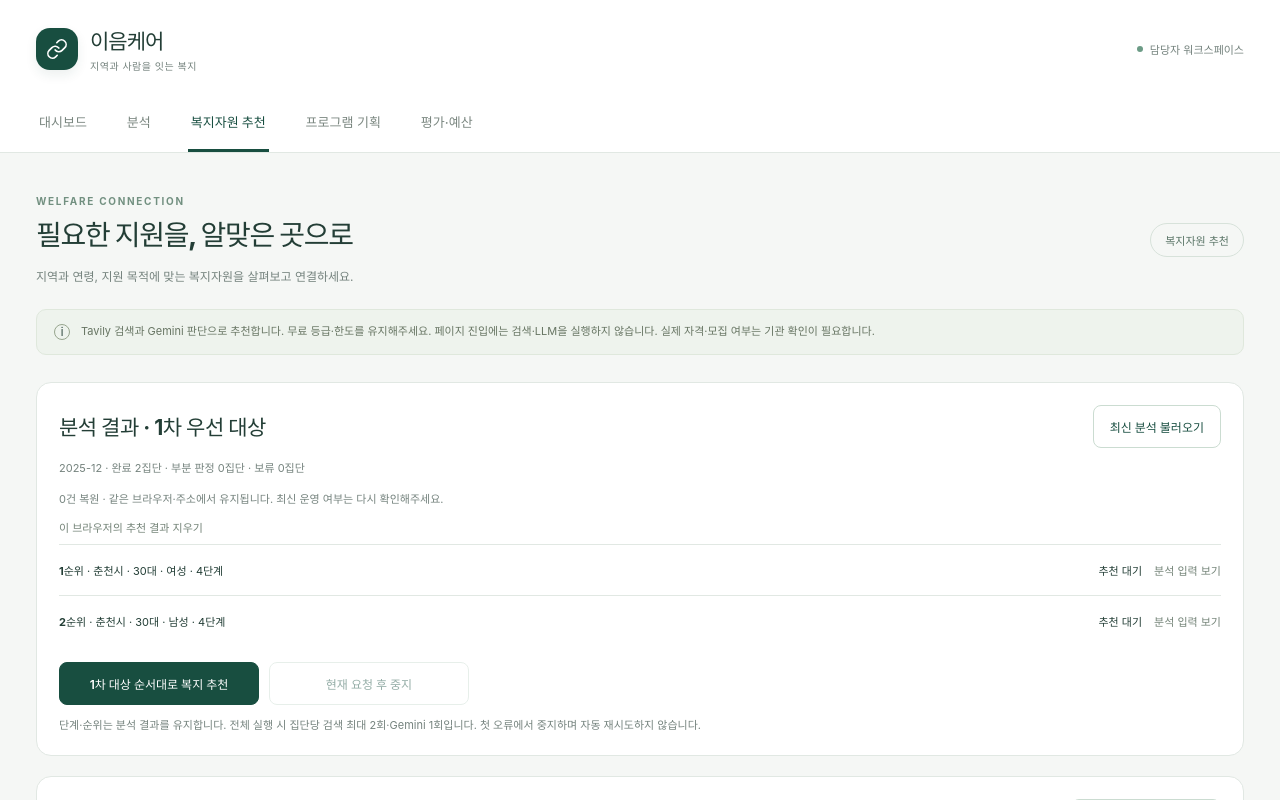
Test: 일괄 추천은 첫 실패에서 멈추고 재실행 시 완료 0개도 건너뛴다
The width and height of the screenshot is (1280, 800).
Click the button "1차 대상 순서대로 복지 추천" at (159, 683), box [59, 662, 259, 705]
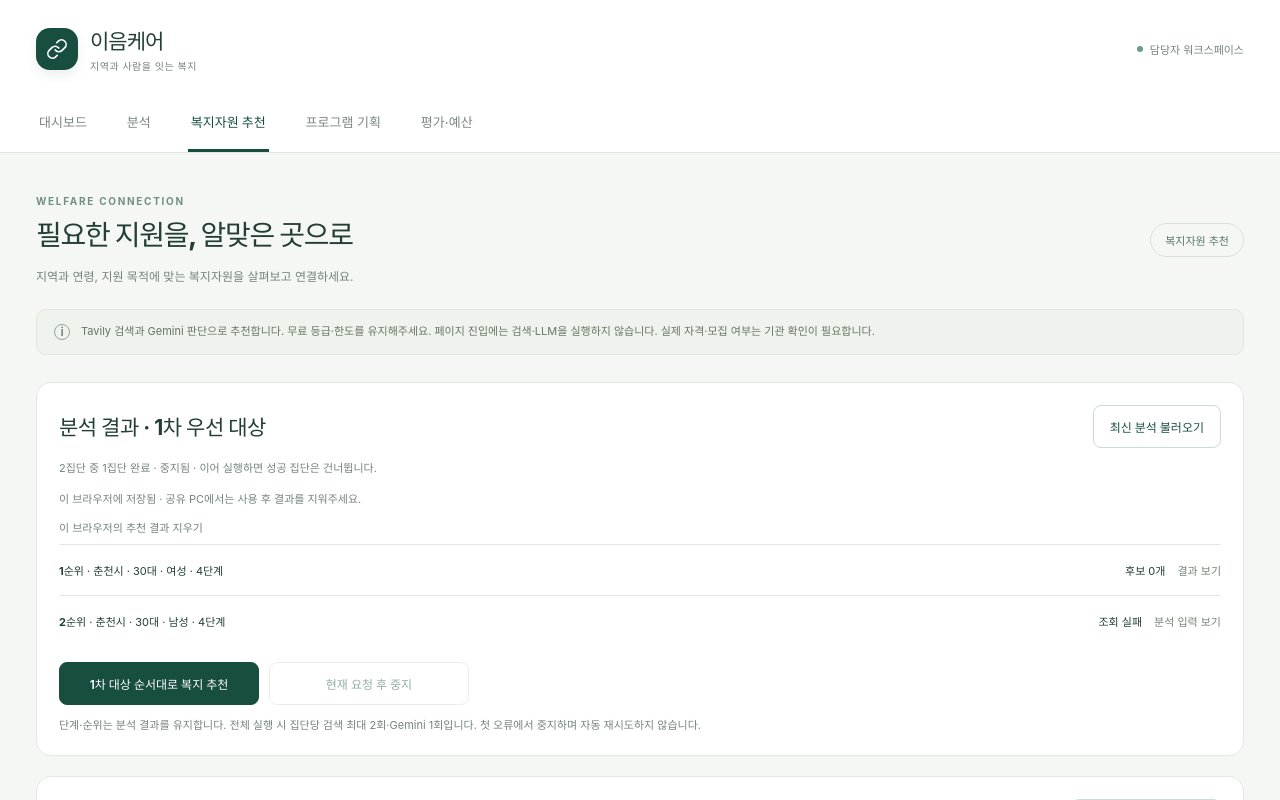
Expected: the text "2집단 중 1집단 완료 · 중지됨 · 이어 실행하면 성공 집단은 건너뜁니다." is shown, [59, 461, 377, 475]
Expected: the text "조회 실패" is shown, [1098, 613, 1142, 629]
Click the button "1차 대상 순서대로 복지 추천" at (159, 683), box [59, 662, 259, 705]
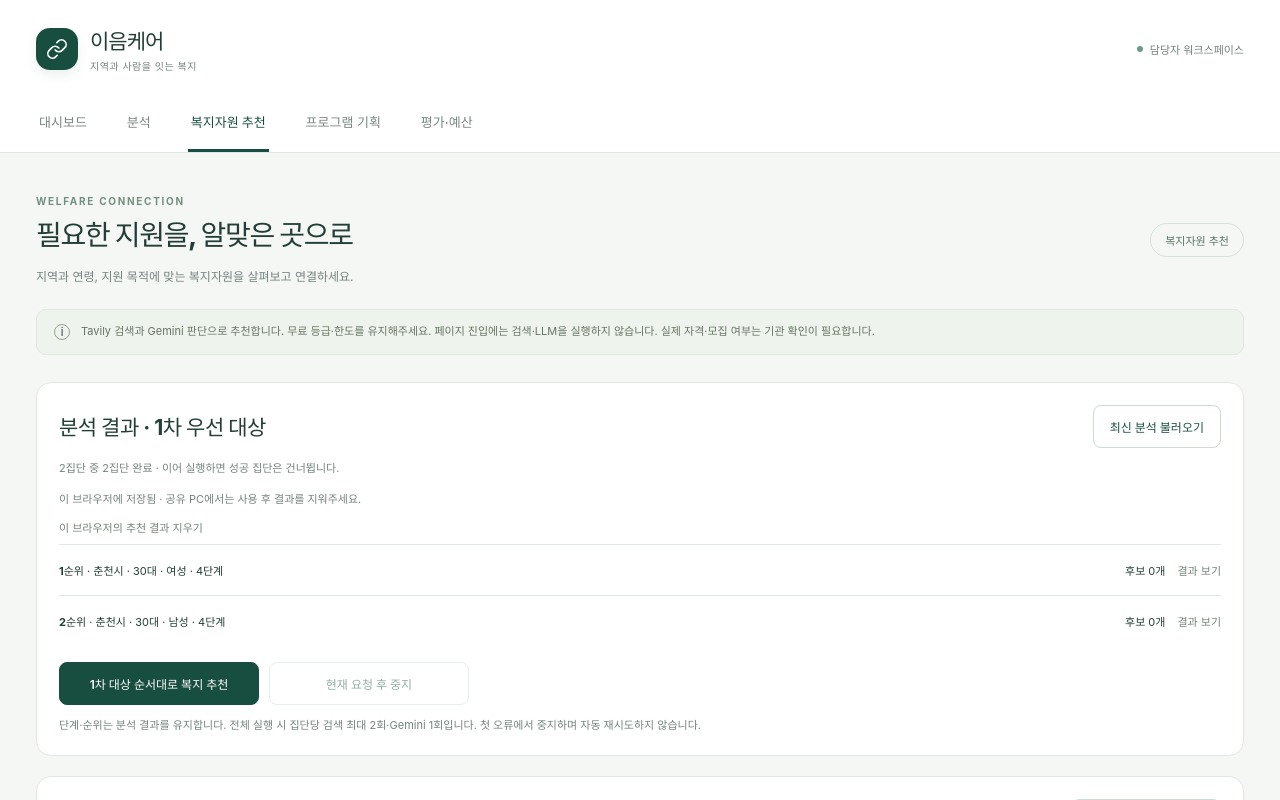
Expected: the text "2집단 중 2집단 완료 · 이어 실행하면 성공 집단은 건너뜁니다." is shown, [59, 461, 339, 475]
